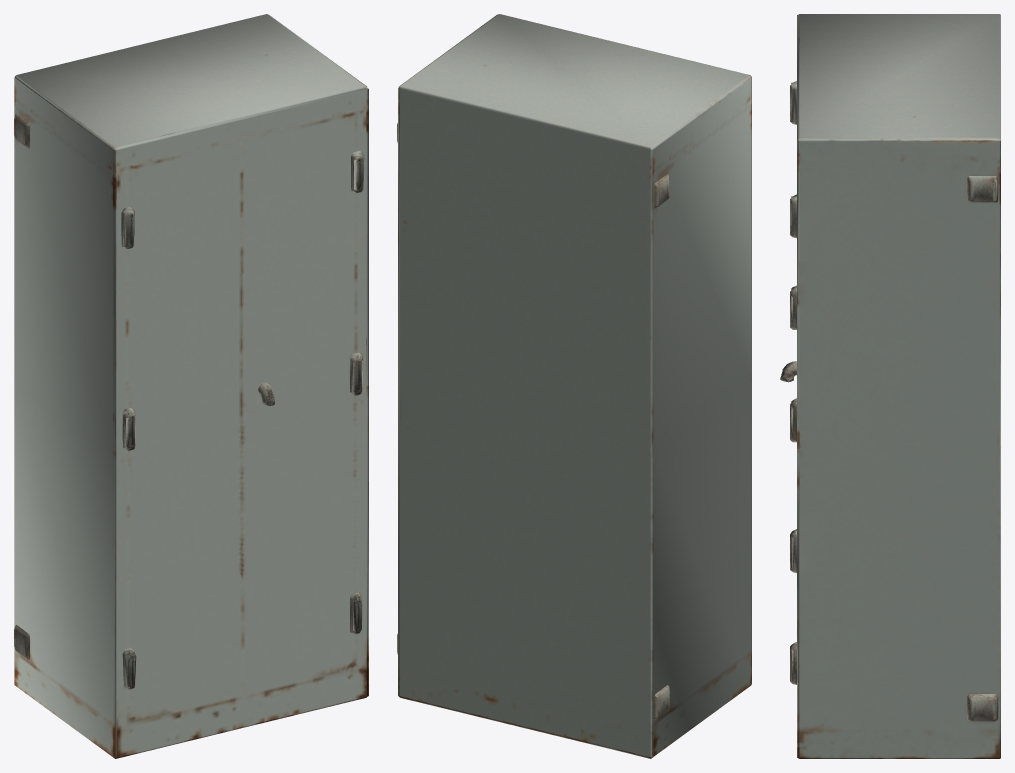
File: MetalFileCabinet.fbx
3 views of the same model, side by side, from view 1: azimuth 30°, elevation 25°; view 2: azimuth 150°, elevation 25°; view 3: azimuth 270°, elevation 25° (orthographic).
Parts seen in each view (by area): view 1: mesh_node; view 2: mesh_node; view 3: mesh_node.
Boxes of the visible parts, x1,y1,x2,y2 form: mesh_node: [14, 14, 368, 758]; mesh_node: [397, 14, 751, 758]; mesh_node: [780, 14, 1000, 758].
Size of the model in its own units: 84.93 by 191 by 61.45.
Materials: 1 (1 with a texture image).
